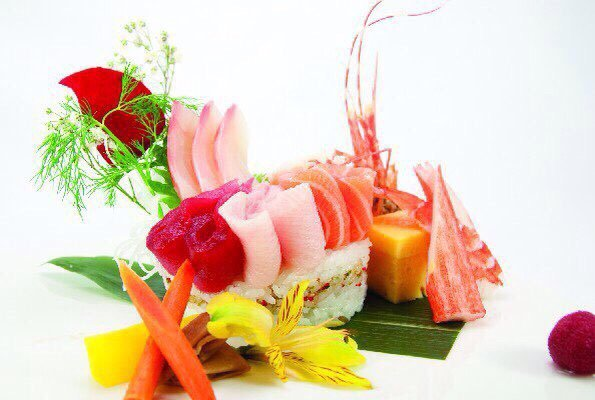pizza: (117, 260, 216, 399)
